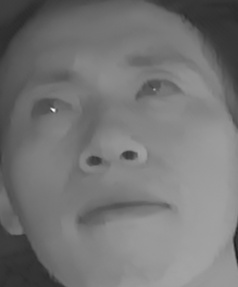eye: (129, 70, 193, 113), (24, 88, 77, 124)
mouth: (65, 189, 170, 237)
